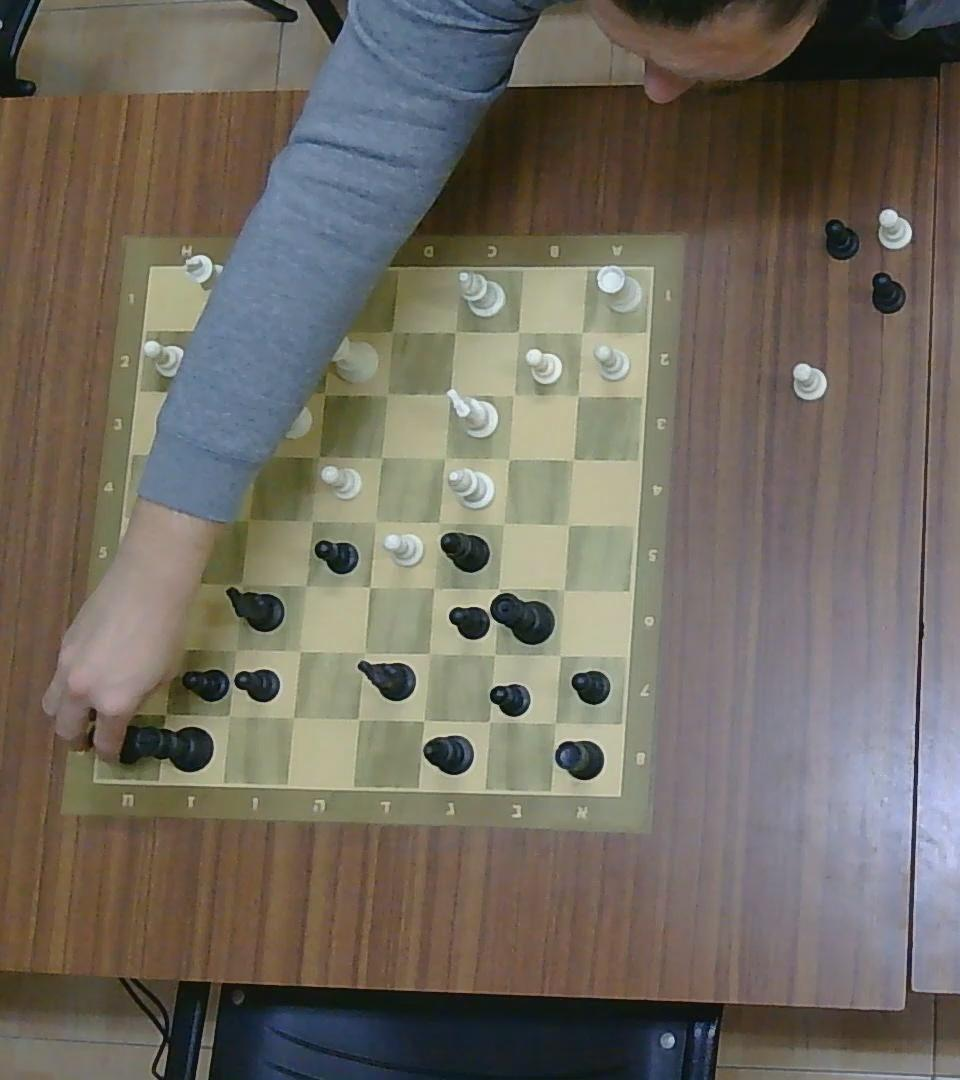xcorner: (250, 316, 278, 348), (244, 378, 274, 407), (188, 319, 216, 350), (185, 437, 210, 470), (183, 374, 210, 403), (159, 636, 186, 663), (280, 704, 305, 730), (216, 702, 241, 728), (163, 570, 191, 593), (379, 318, 404, 343), (477, 710, 502, 734), (288, 639, 311, 663), (412, 708, 435, 732), (155, 701, 178, 725), (324, 318, 347, 342), (347, 707, 370, 730), (352, 641, 375, 664), (542, 711, 566, 733), (438, 381, 460, 405), (359, 576, 381, 598), (301, 510, 323, 532), (363, 510, 385, 532), (422, 576, 444, 598), (226, 638, 248, 660), (167, 506, 190, 526), (233, 573, 254, 594), (248, 444, 268, 466), (563, 448, 583, 469), (445, 320, 465, 341), (378, 384, 398, 405), (483, 644, 504, 664), (239, 509, 260, 529), (428, 512, 448, 533), (295, 575, 315, 595), (420, 644, 440, 664), (488, 577, 508, 597), (559, 514, 578, 534), (372, 447, 391, 467), (494, 514, 513, 534), (315, 383, 334, 403), (549, 645, 569, 664), (309, 445, 328, 465), (499, 449, 518, 468), (568, 385, 587, 404), (504, 385, 523, 404), (510, 321, 528, 340), (555, 579, 573, 598), (435, 448, 453, 466), (573, 323, 591, 341)
